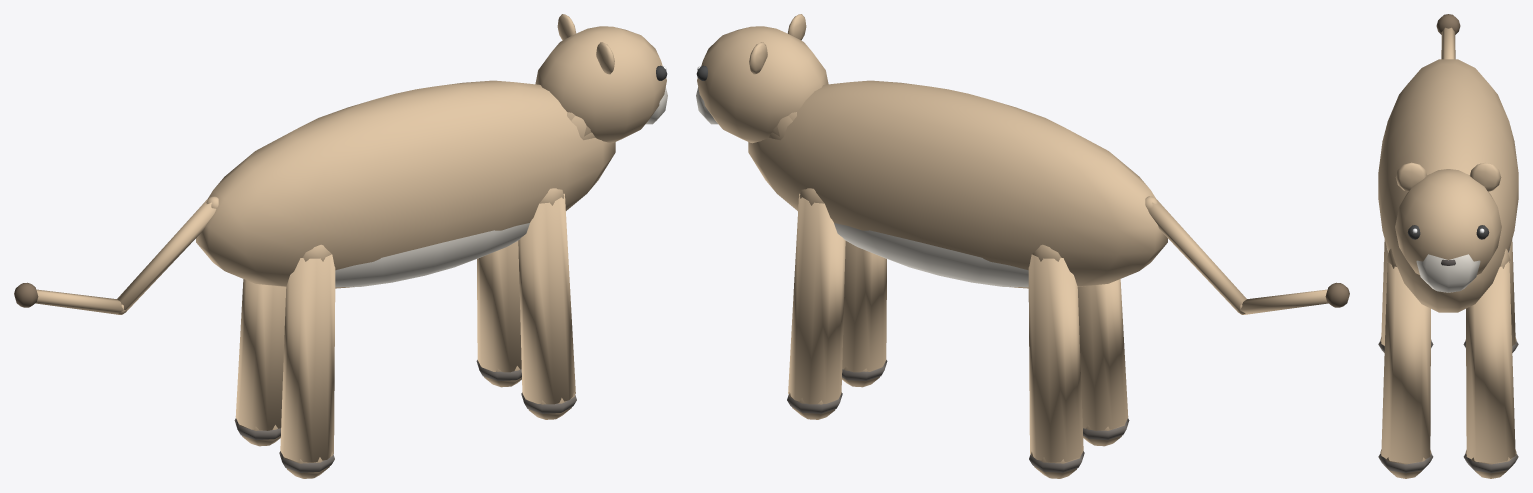
Rendered from puma.glb.
The picture shows the model from 3 angles, left to right: view 1: azimuth 30°, elevation 25°; view 2: azimuth 150°, elevation 25°; view 3: azimuth 270°, elevation 25°; orthographic projection. The views are drawn at different scales.
Visible parts, largest first — view 1: e, e.016, e.025; view 2: e, e.016, e.025; view 3: e, e.016, e.025.
Boxes of the visible parts, x1=… form: e: x1=196, y1=80, x2=615, y2=478; e.016: x1=535, y1=14, x2=667, y2=143; e.025: x1=14, y1=196, x2=218, y2=314; e: x1=748, y1=80, x2=1167, y2=478; e.016: x1=696, y1=14, x2=828, y2=143; e.025: x1=1145, y1=196, x2=1349, y2=314; e: x1=1378, y1=59, x2=1518, y2=478; e.016: x1=1395, y1=162, x2=1501, y2=292; e.025: x1=1436, y1=14, x2=1460, y2=59.
Bounding box in the file's own units: 1.7 × 0.9017 × 0.3365.
